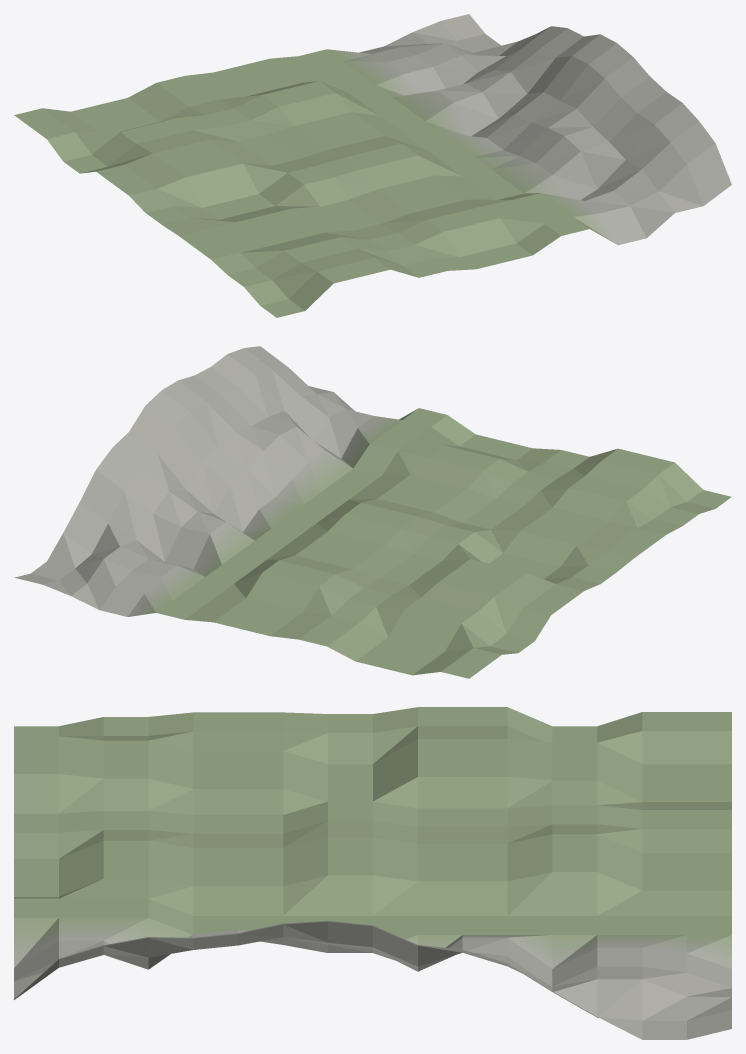
The picture shows the model from 3 angles, top to bottom: view 1: azimuth 30°, elevation 25°; view 2: azimuth 150°, elevation 25°; view 3: azimuth 270°, elevation 25°; orthographic projection. The views are drawn at different scales.
Size of the model in its own units: 32 by 6.11 by 32.
